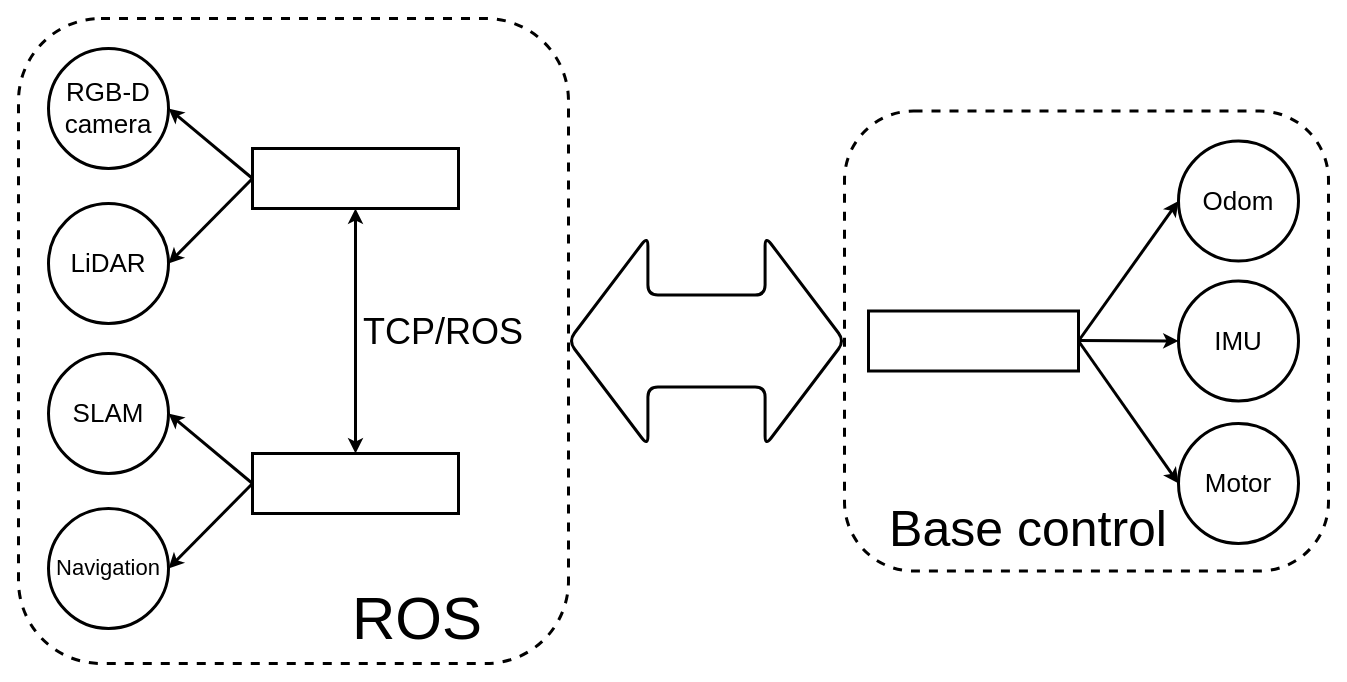
Image size: 1347x682. Some labels were removed from this diagram. The box of each missing label's shape, as (x1, y1, x2, y2) in pixels:
rosserial client (STM32F4): (866, 309, 1080, 372)
rosserial protocol: (566, 234, 846, 447)
rosserial server (PC): (250, 452, 460, 514)
rosserial server (Raspberry Pi): (250, 146, 460, 210)
